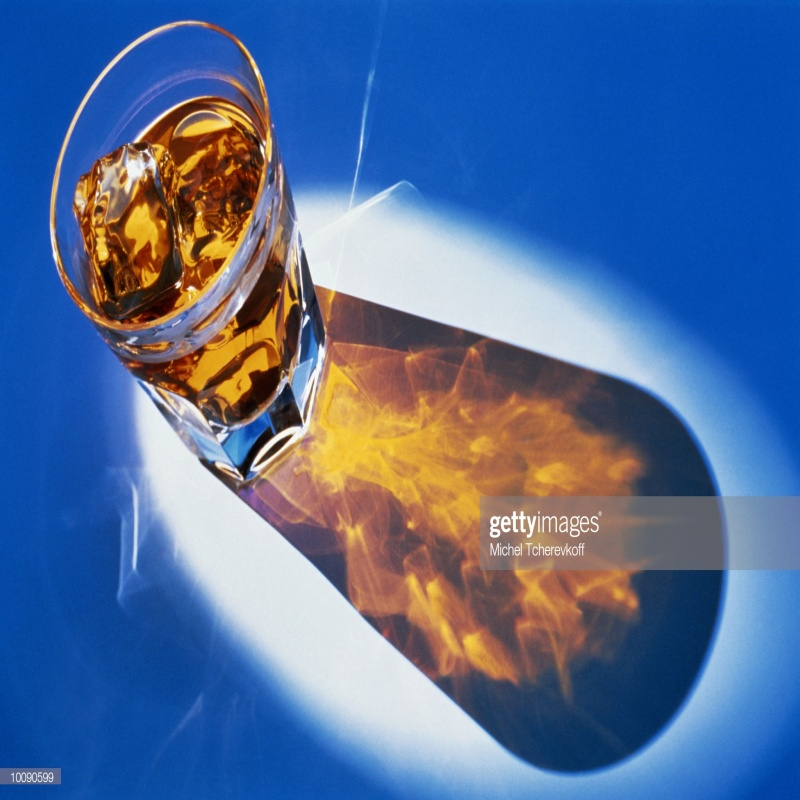whiskey: (49, 8, 333, 459)
